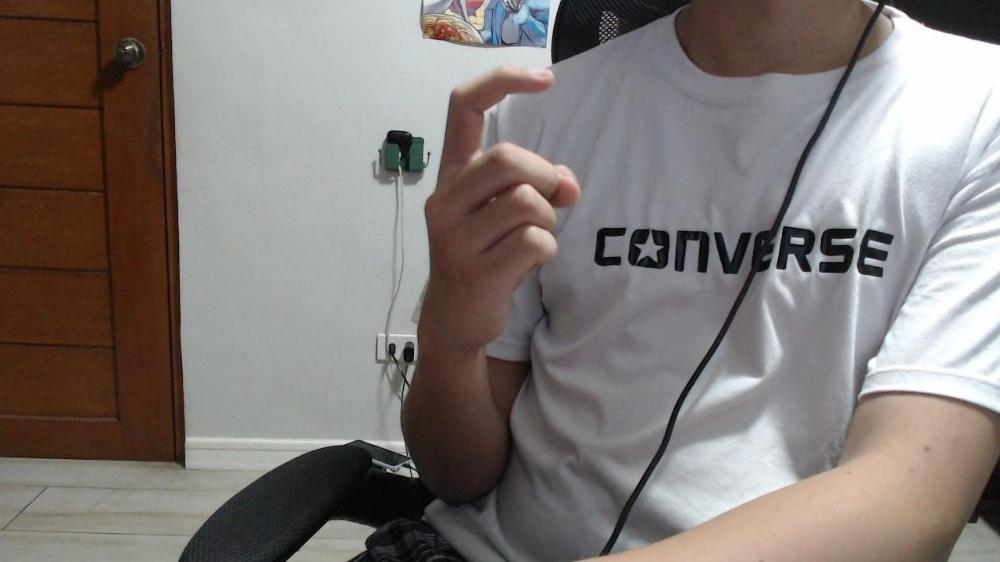x: (421, 66, 577, 343)
